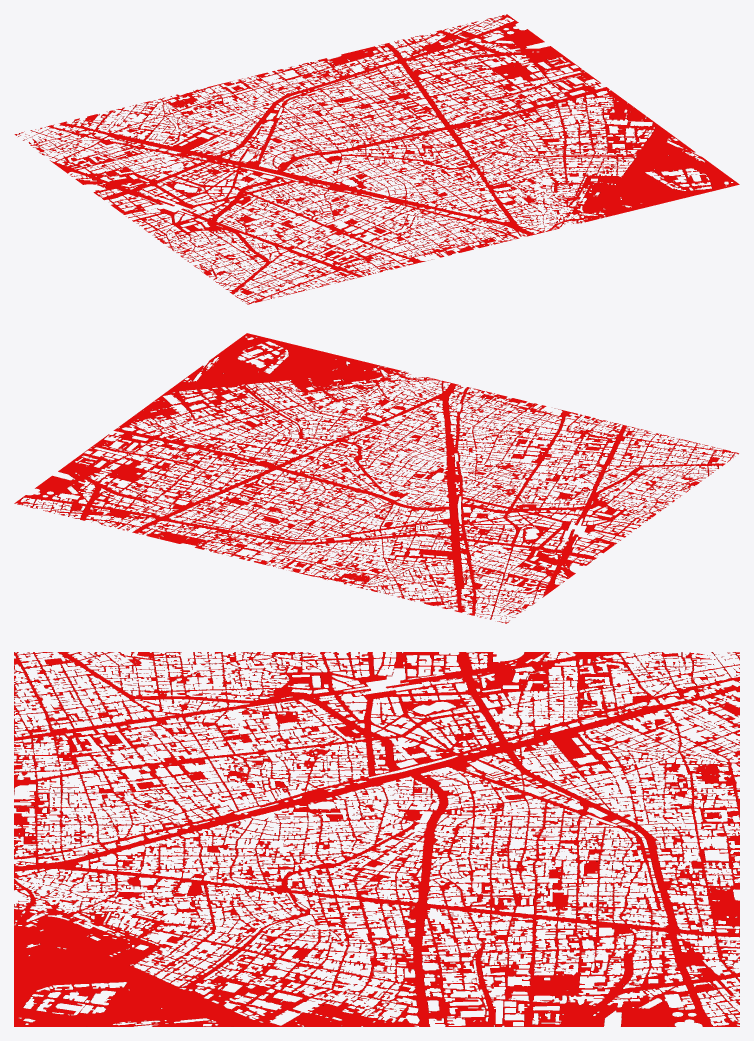
Rendered from floor_tmp.fbx.
3 renders of one model, top to bottom at view 1: azimuth 30°, elevation 25°; view 2: azimuth 150°, elevation 25°; view 3: azimuth 270°, elevation 25°, orthographic. The views are drawn at different scales.
Visible parts, largest first — view 1: pPlane1; view 2: pPlane1; view 3: pPlane1.
Boxes of the visible parts, x1,y1,x2,y2 form: pPlane1: [14, 14, 739, 304]; pPlane1: [14, 333, 738, 623]; pPlane1: [14, 652, 739, 1026].
Size of the model in its own units: 3390 by 0 by 2775.
